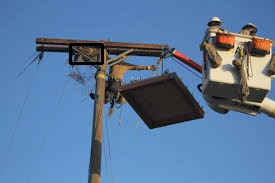bird-nest: (70, 44, 102, 63)
